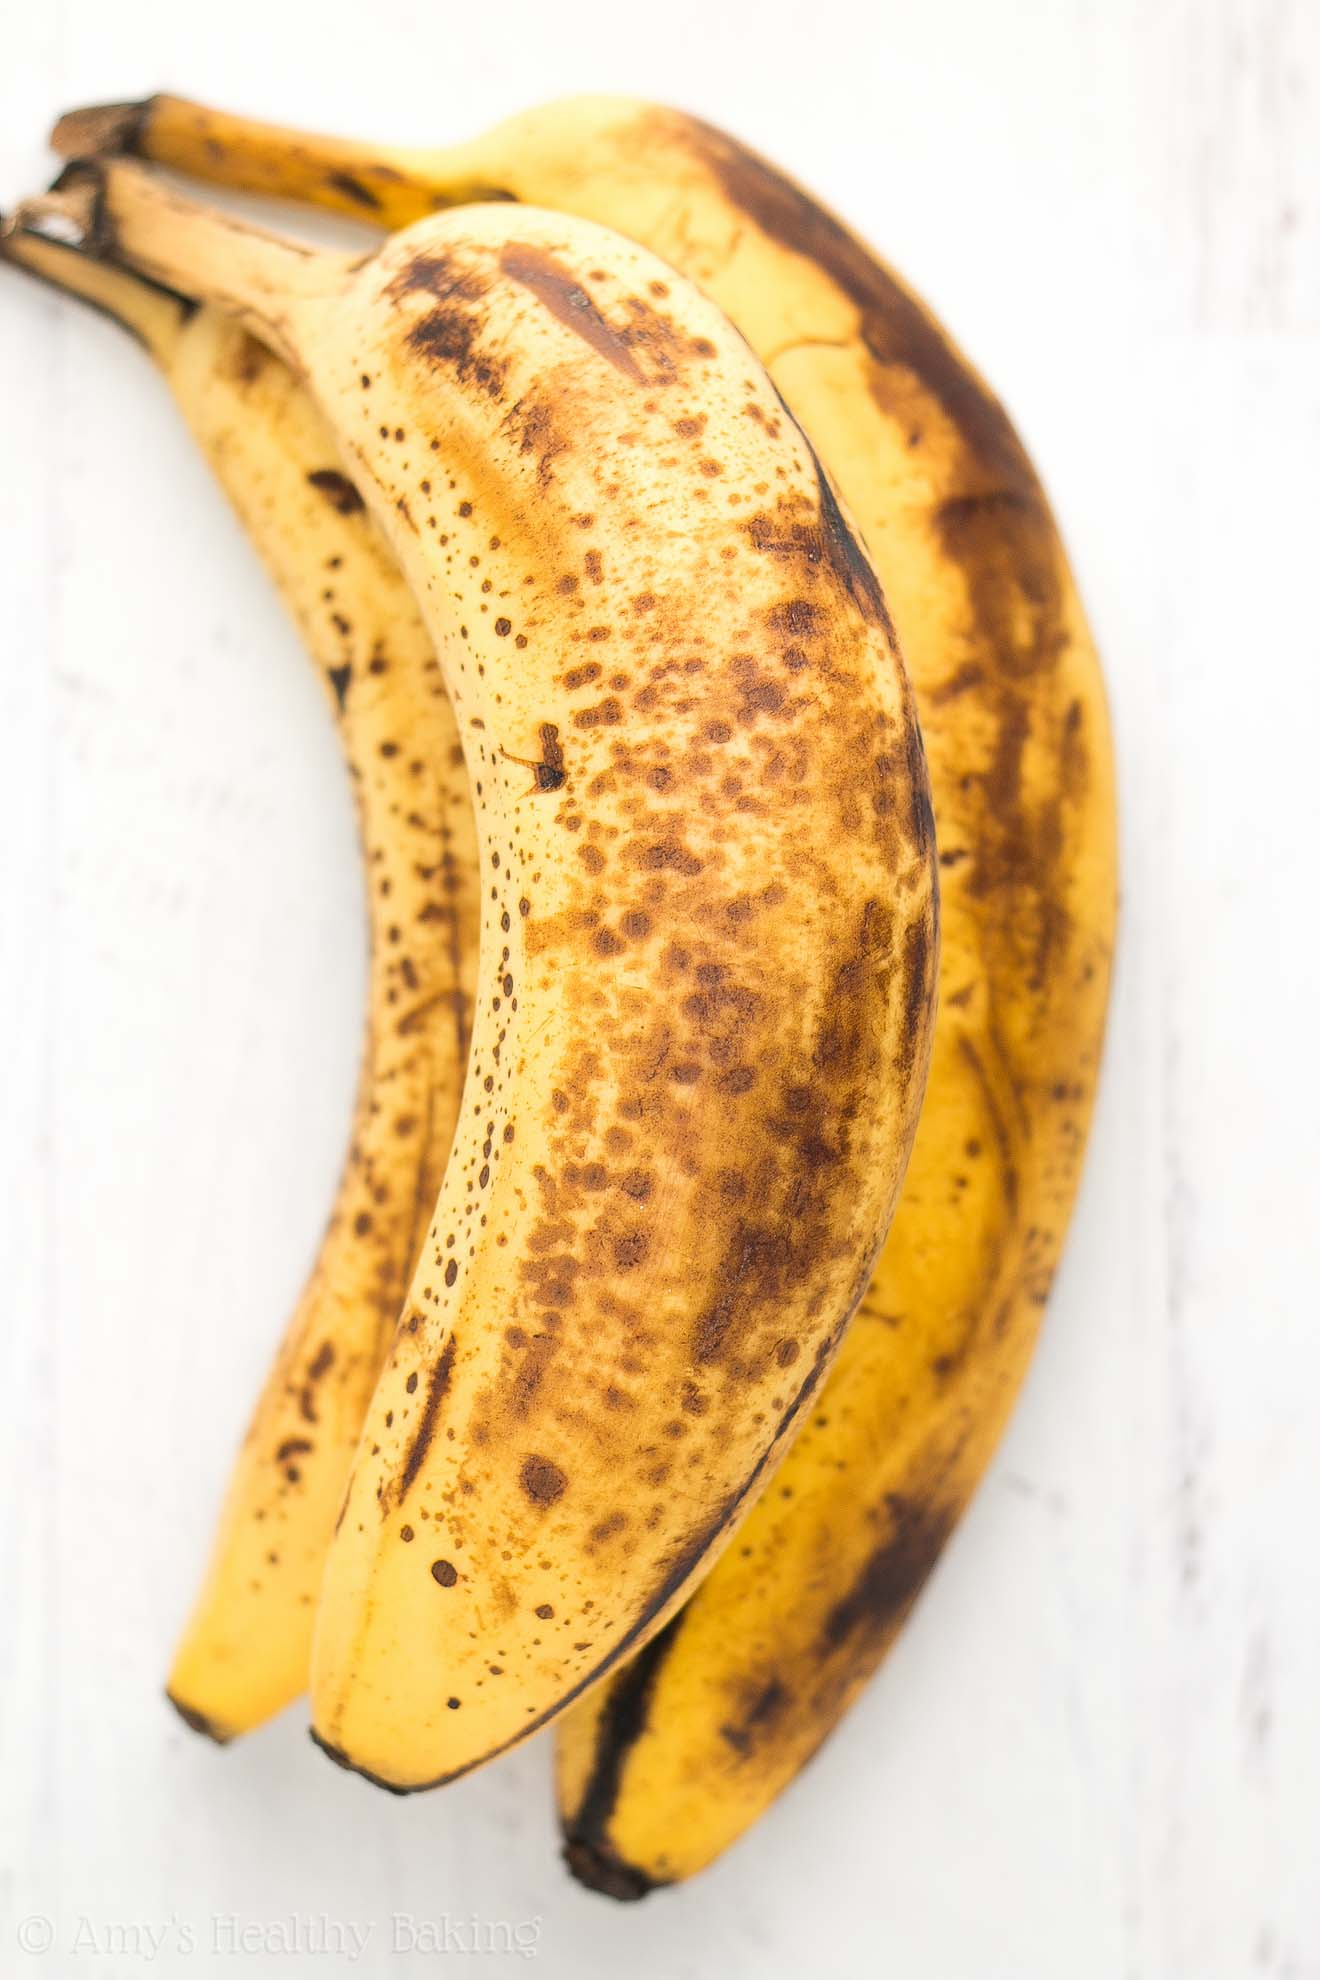banana: (401, 129, 1078, 1890), (313, 228, 935, 1864), (135, 291, 642, 1747)
